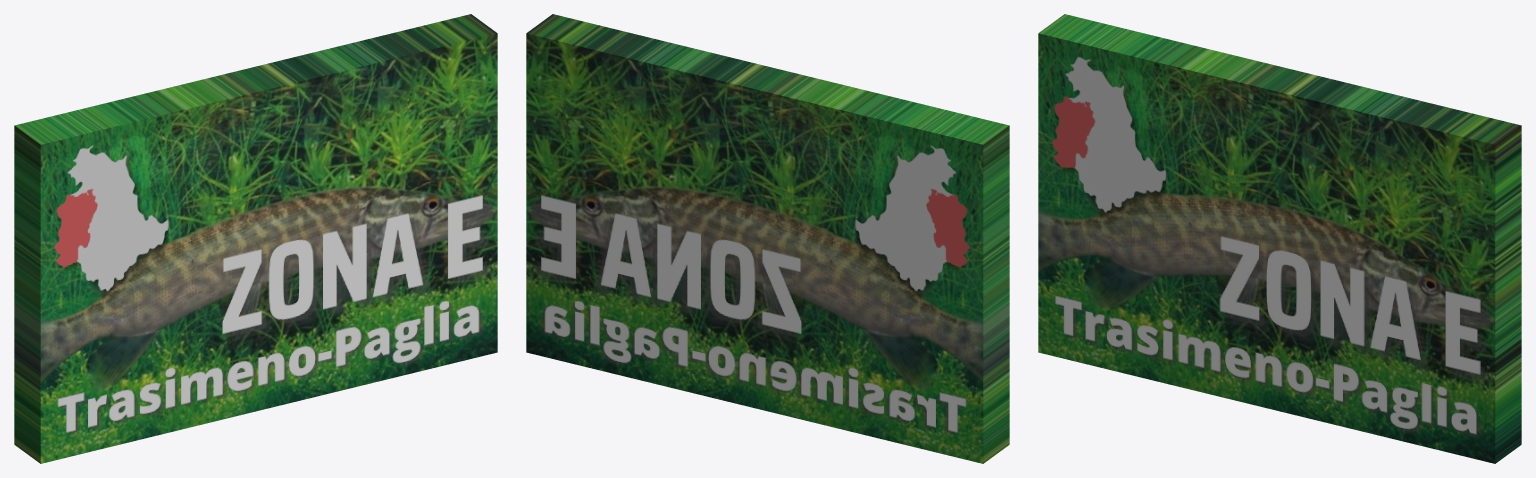
Rendered from Zona E.glb.
3 views of the same model, side by side, from view 1: azimuth 30°, elevation 25°; view 2: azimuth 150°, elevation 25°; view 3: azimuth 330°, elevation 25° (orthographic).
Bounding box in the file's own units: 0.2245 × 0.1499 × 0.0225.
1 material, 1 textured.
